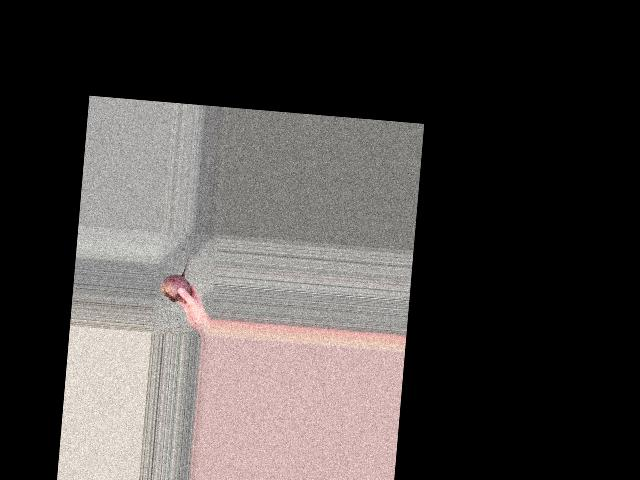beet: (159, 246, 193, 303)
